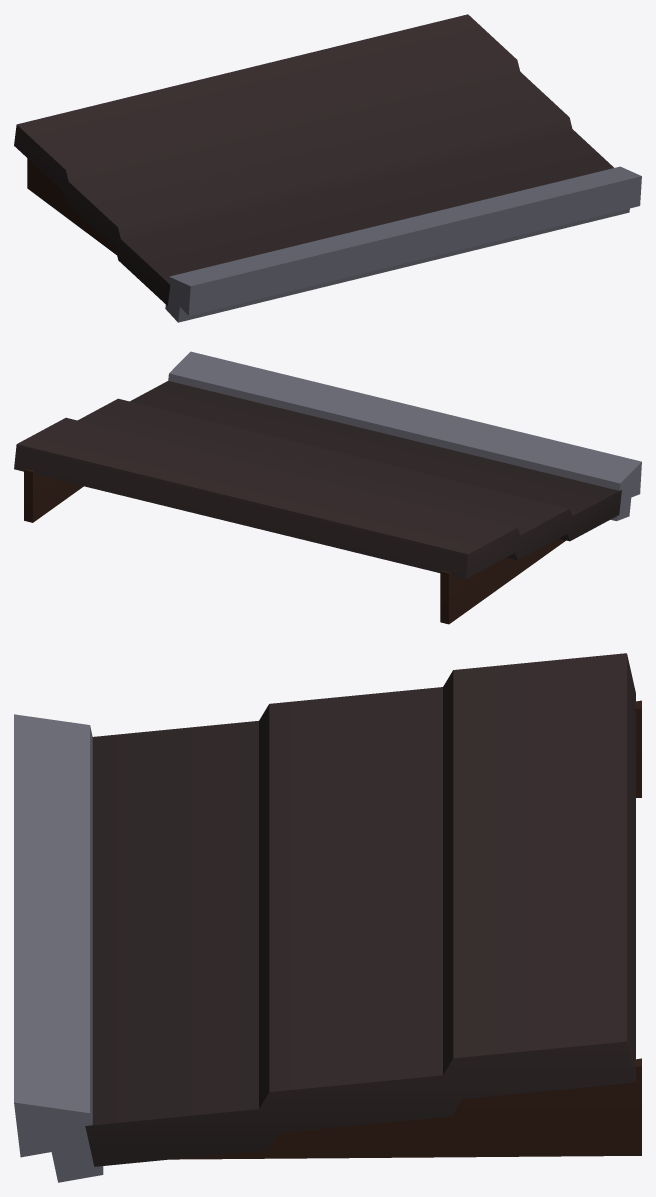
Rendered from Awning 2M.glb.
3 renders of one model, top to bottom at view 1: azimuth 30°, elevation 25°; view 2: azimuth 150°, elevation 25°; view 3: azimuth 270°, elevation 25°, orthographic. The views are drawn at different scales.
Visible parts, largest first — view 1: awning 2M; view 2: awning 2M; view 3: awning 2M.
Part boxes in pixels (x1,y1,x2,y2): awning 2M: [14, 14, 641, 322]; awning 2M: [14, 351, 641, 624]; awning 2M: [14, 653, 641, 1182].
Size of what is drawn, in the model's own units: 2 by 0.339 by 1.37.
Materials: 1 (1 with a texture image).
